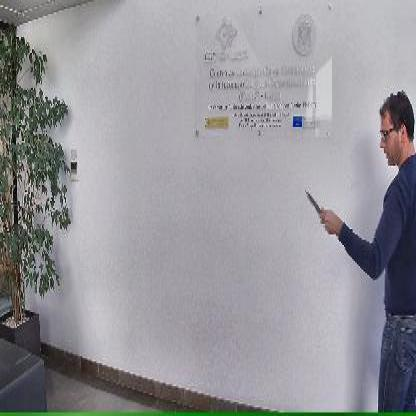knife: (302, 184, 330, 228)
